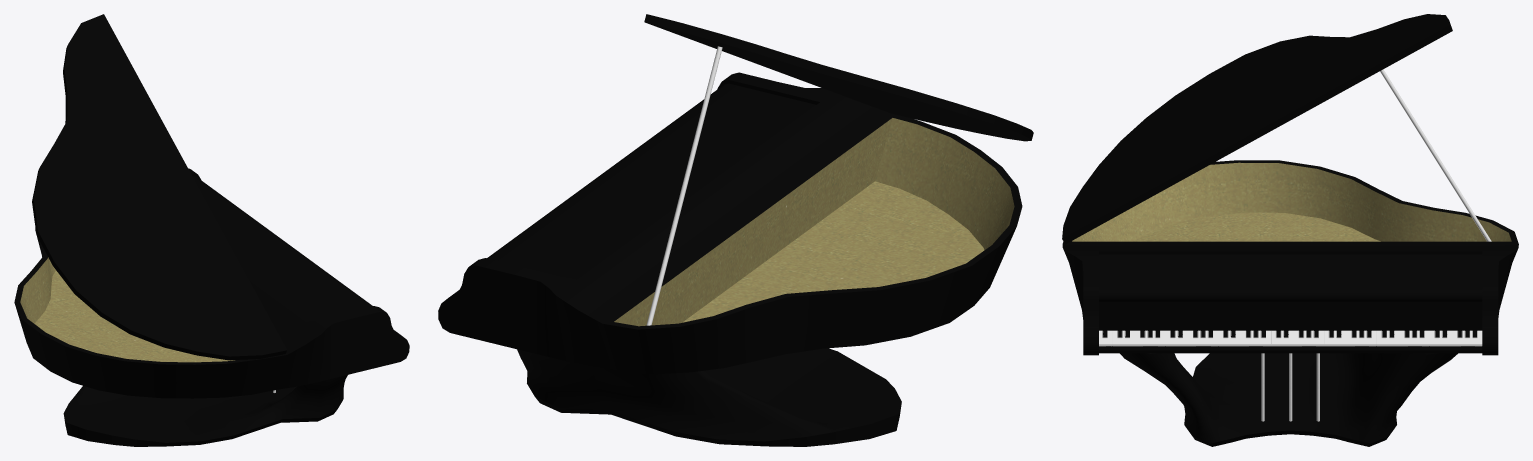
The model's file is Mdl.GrandPiano.fbx.
3 views of the same model, side by side, from view 1: azimuth 30°, elevation 25°; view 2: azimuth 150°, elevation 25°; view 3: azimuth 270°, elevation 25° (orthographic). The views are drawn at different scales.
Parts seen in each view (by area): view 1: GrandPianoMesh; view 2: GrandPianoMesh; view 3: GrandPianoMesh.
Boxes of the visible parts, x1,y1,x2,y2 form: GrandPianoMesh: [14, 14, 409, 446]; GrandPianoMesh: [438, 14, 1033, 446]; GrandPianoMesh: [1062, 14, 1518, 446].
Bounding box in the file's own units: 2.19 × 2.4 × 2.77.
